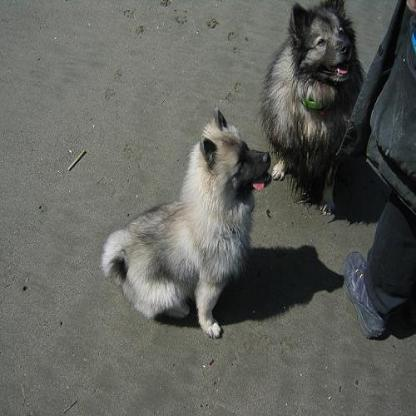keeshond: (98, 104, 270, 335), (262, 1, 369, 219)
